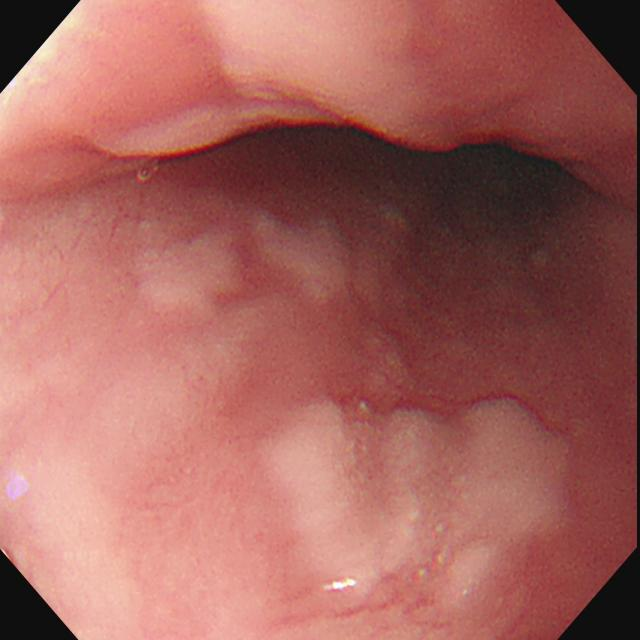E: (282, 91, 577, 238)
J: (264, 389, 583, 619), (127, 212, 246, 322), (257, 213, 372, 306)
T: (136, 158, 160, 186)
